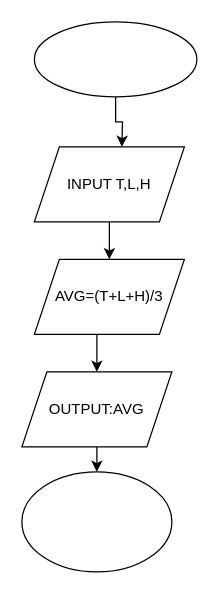
This 219x594 diagram has some shape labels left out. The centre of each missing label's shape, as x and y in pixels:
BEGIN: point 115,59
END: point 96,521
